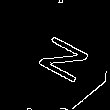N_NW: (23, 25, 87, 85)
